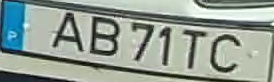1: (155, 25, 172, 67)
7: (128, 19, 156, 63)
A: (47, 11, 86, 53)
B: (88, 14, 121, 57)
C: (206, 31, 244, 76)
T: (180, 26, 209, 70)
